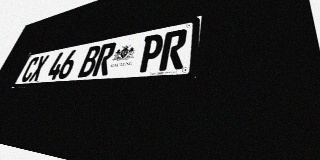4: (45, 51, 68, 80)
6: (56, 49, 80, 79)
B: (77, 45, 102, 78)
C: (20, 56, 40, 82)
P: (137, 33, 165, 73)
R: (158, 28, 188, 71), (91, 42, 117, 76)
X: (28, 55, 50, 82)
